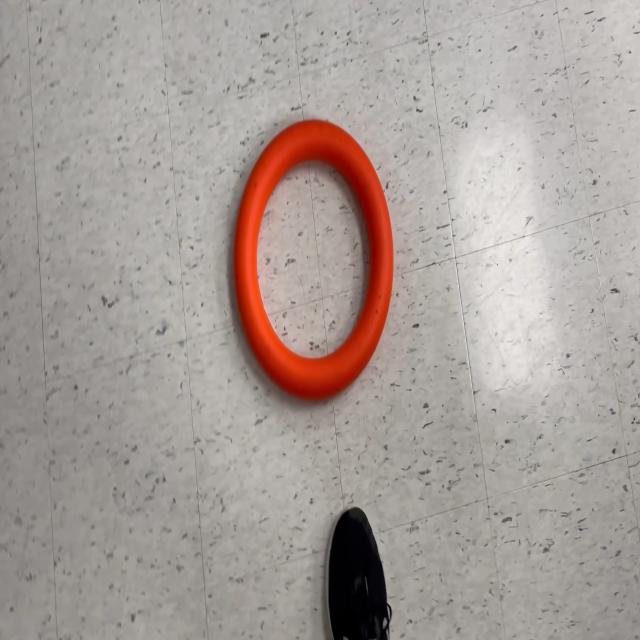note: (234, 118, 395, 401)
